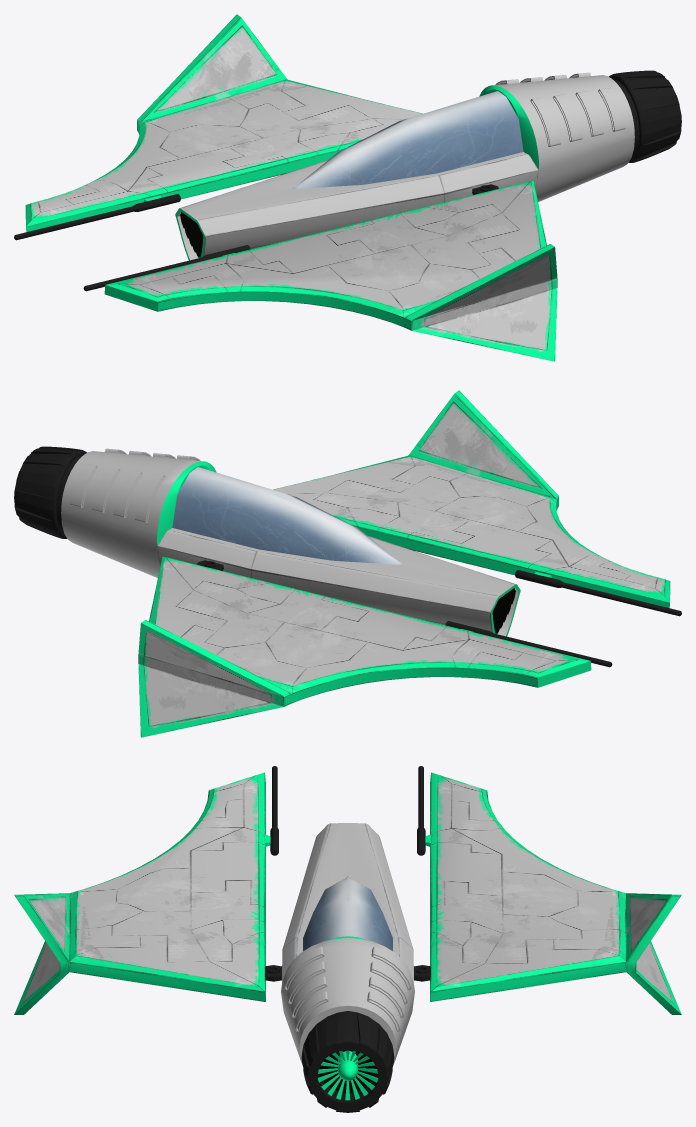
The model's file is FBX_Enemy-Spaceship.fbx.
The picture shows the model from 3 angles, top to bottom: view 1: azimuth 30°, elevation 25°; view 2: azimuth 150°, elevation 25°; view 3: azimuth 270°, elevation 25°; orthographic projection. The views are drawn at different scales.
Parts seen in each view (by area): view 1: Starship-Part-Wings, Starship-Part-Body, Starship-Part-Engine-Bay, Starship-Part-Window.002, Starship-Part-Burner, Starship-Part-Weapons, Starship-Part-Grille; view 2: Starship-Part-Wings, Starship-Part-Body, Starship-Part-Engine-Bay, Starship-Part-Window.002, Starship-Part-Burner, Starship-Part-Weapons, Starship-Part-Grille; view 3: Starship-Part-Wings, Starship-Part-Engine-Bay, Starship-Part-Body, Starship-Part-Burner, Starship-Part-Window.002, Starship-Part-Burner-Fan-Blades, Starship-Part-Weapons.
Part boxes in pixels (x1,y1,x2,y2): Starship-Part-Wings: (25, 14, 557, 361); Starship-Part-Body: (175, 152, 538, 260); Starship-Part-Engine-Bay: (479, 72, 634, 201); Starship-Part-Window.002: (292, 91, 523, 188); Starship-Part-Burner: (608, 70, 681, 162); Starship-Part-Weapons: (14, 194, 250, 291); Starship-Part-Grille: (180, 212, 203, 257); Starship-Part-Wings: (138, 390, 670, 737); Starship-Part-Body: (157, 528, 520, 636); Starship-Part-Engine-Bay: (61, 448, 216, 577); Starship-Part-Window.002: (172, 467, 403, 564); Starship-Part-Burner: (14, 446, 87, 538); Starship-Part-Weapons: (445, 570, 681, 667); Starship-Part-Grille: (492, 588, 515, 633); Starship-Part-Wings: (14, 772, 681, 1014); Starship-Part-Engine-Bay: (281, 936, 414, 1064); Starship-Part-Body: (282, 823, 413, 983); Starship-Part-Burner: (301, 1011, 394, 1112); Starship-Part-Window.002: (303, 876, 392, 951); Starship-Part-Burner-Fan-Blades: (317, 1050, 378, 1100); Starship-Part-Weapons: (270, 766, 425, 855).
Bounding box in the file's own units: 144 × 28.98 × 129.
